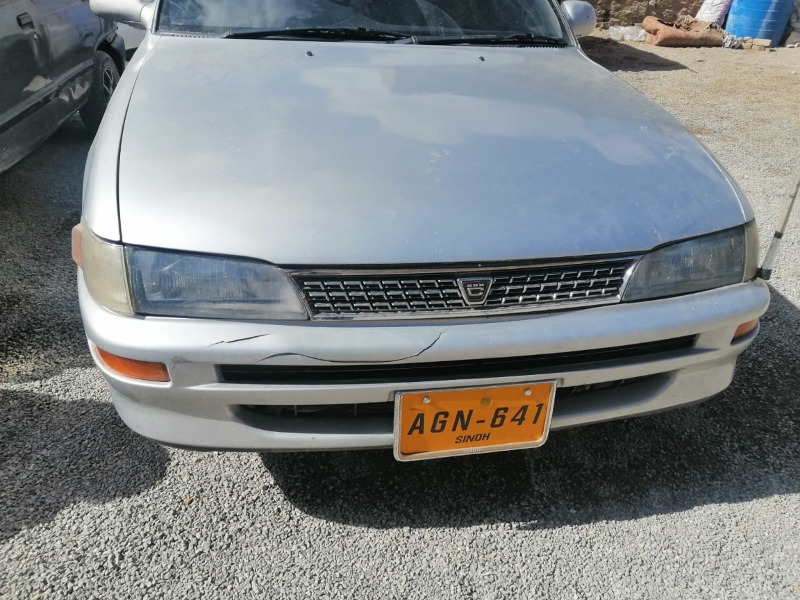License Plate: (388, 381, 557, 464)
